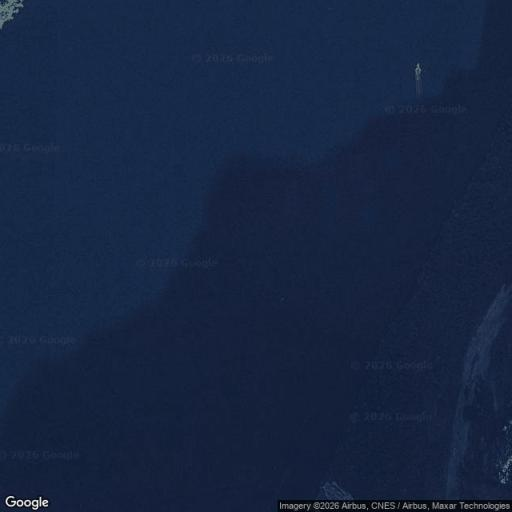ship: (413, 62, 424, 84)
